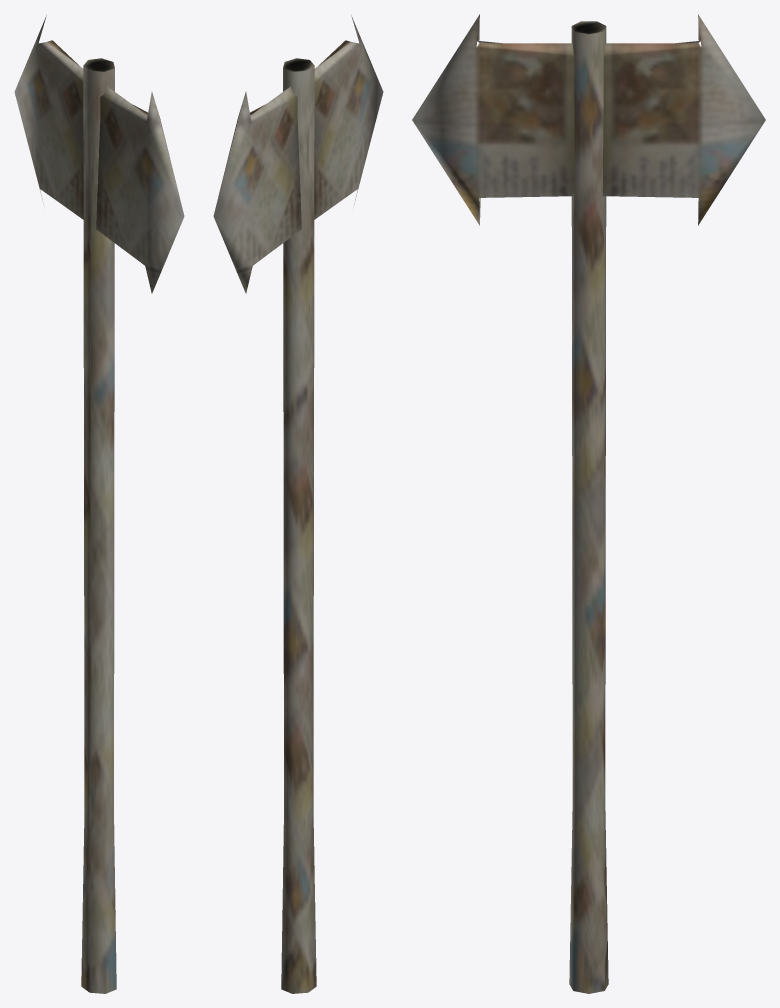
Rendered from paperAxe.glb.
3 renders of one model, left to right at view 1: azimuth 30°, elevation 25°; view 2: azimuth 150°, elevation 25°; view 3: azimuth 270°, elevation 25°, orthographic. The views are drawn at different scales.
Parts seen in each view (by area): view 1: paperAxe; view 2: paperAxe; view 3: paperAxe.
Part boxes in pixels (box(x1,y1,x2,y2)): paperAxe: box(14, 15, 184, 993); paperAxe: box(213, 15, 383, 993); paperAxe: box(412, 14, 765, 993).
Size of the model in its own units: 0.1231 by 3.72 by 1.23.
1 material, 1 textured.
